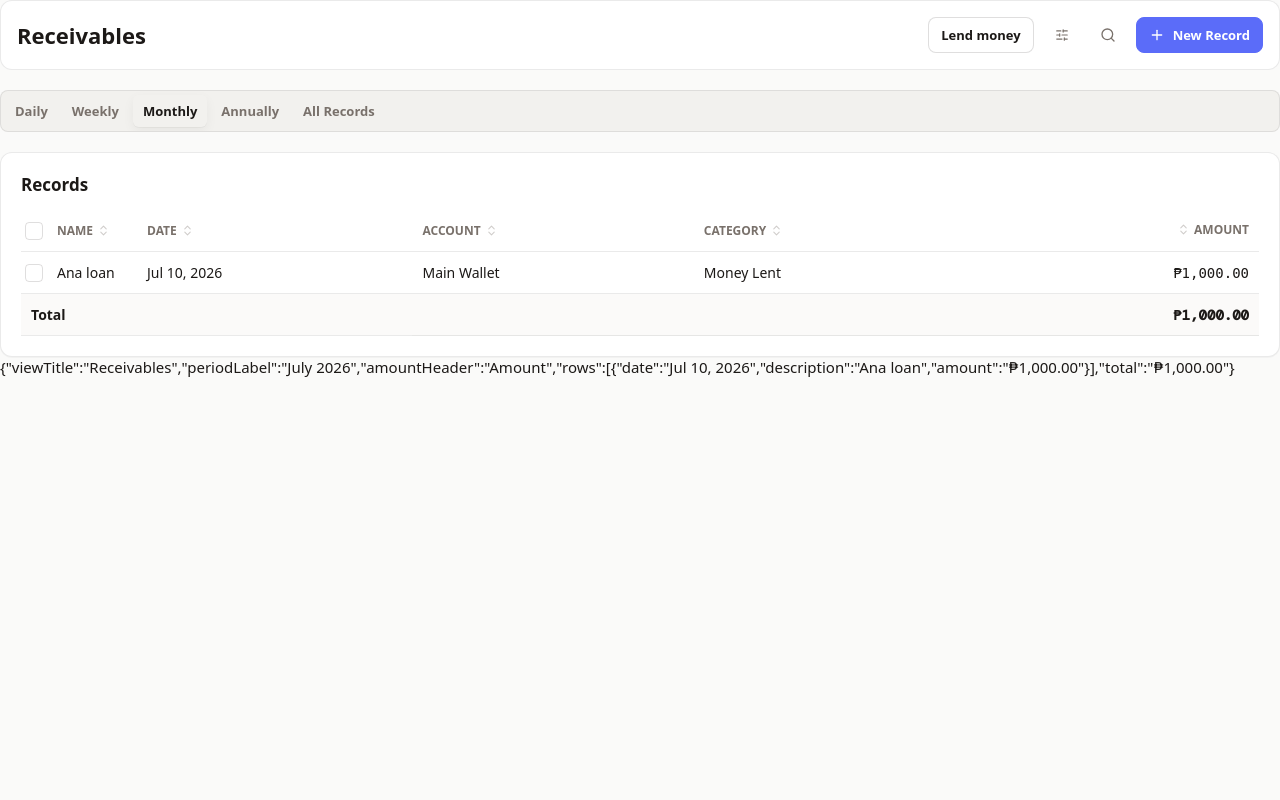
Test: Money Lent › previews full repayment into acc1 and uses the settlement endpoint
The image size is (1280, 800).
Click the text "Ana loan": [79, 272] box [21,252,137,294]
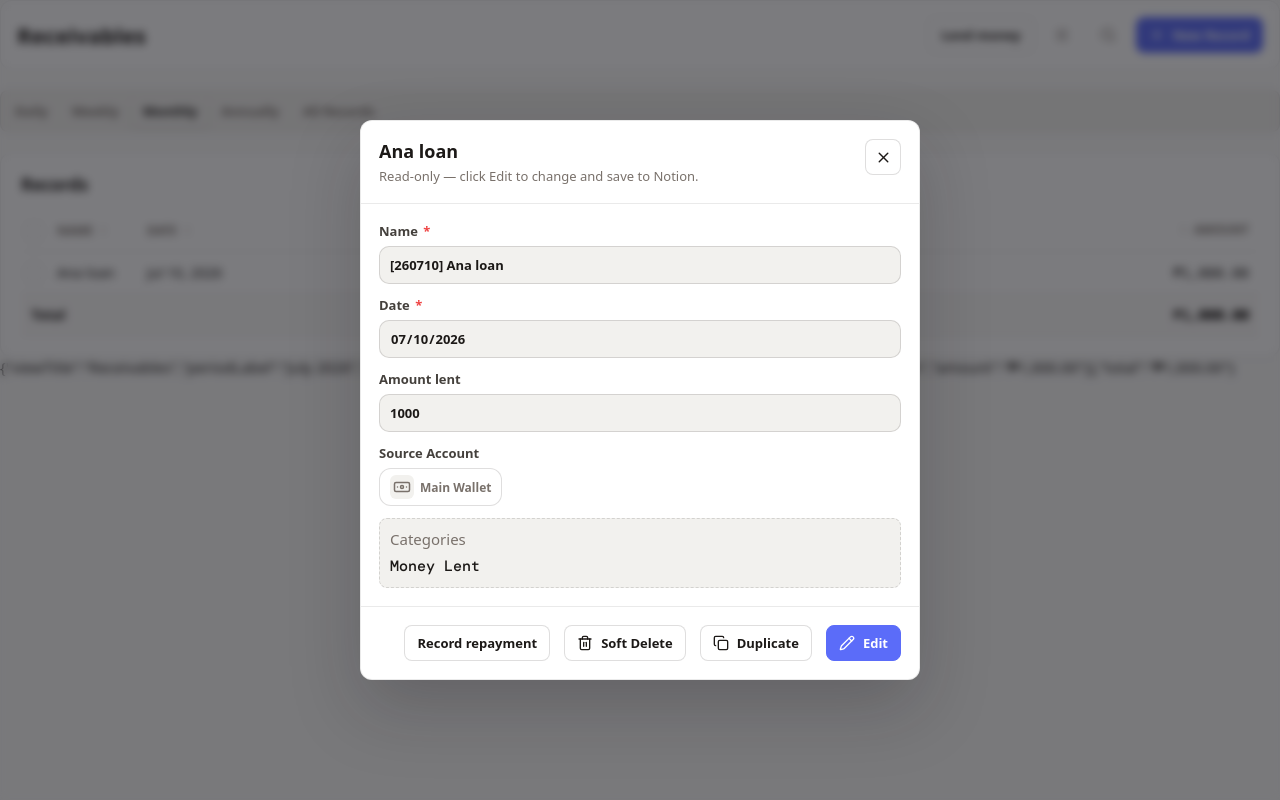
Click the button "Record repayment": [477, 643] box [404,625,550,661]
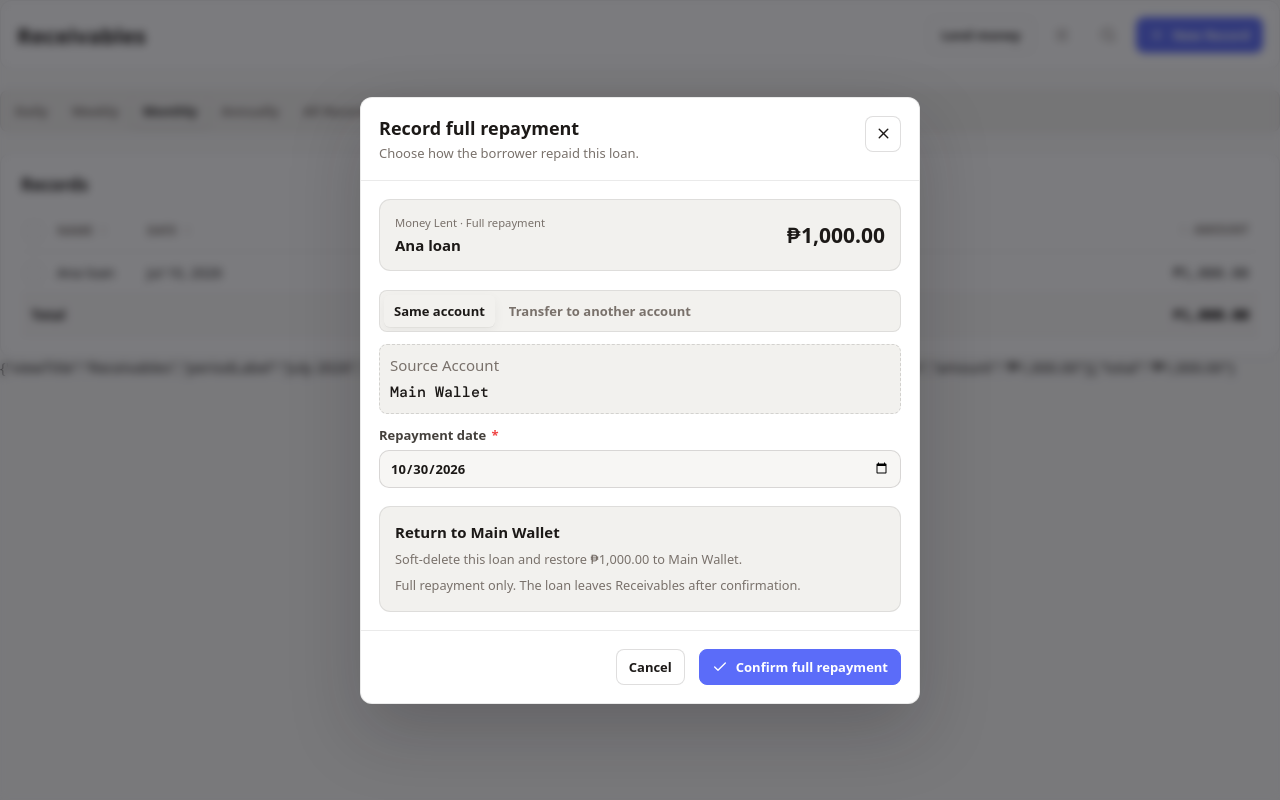
Now the text "Soft-delete this loan and restore ₱1,000.00 to Main Wallet." is shown, box [395,550,742,568]
Click the button "Confirm full repayment": [800, 666] box [699,648,901,684]
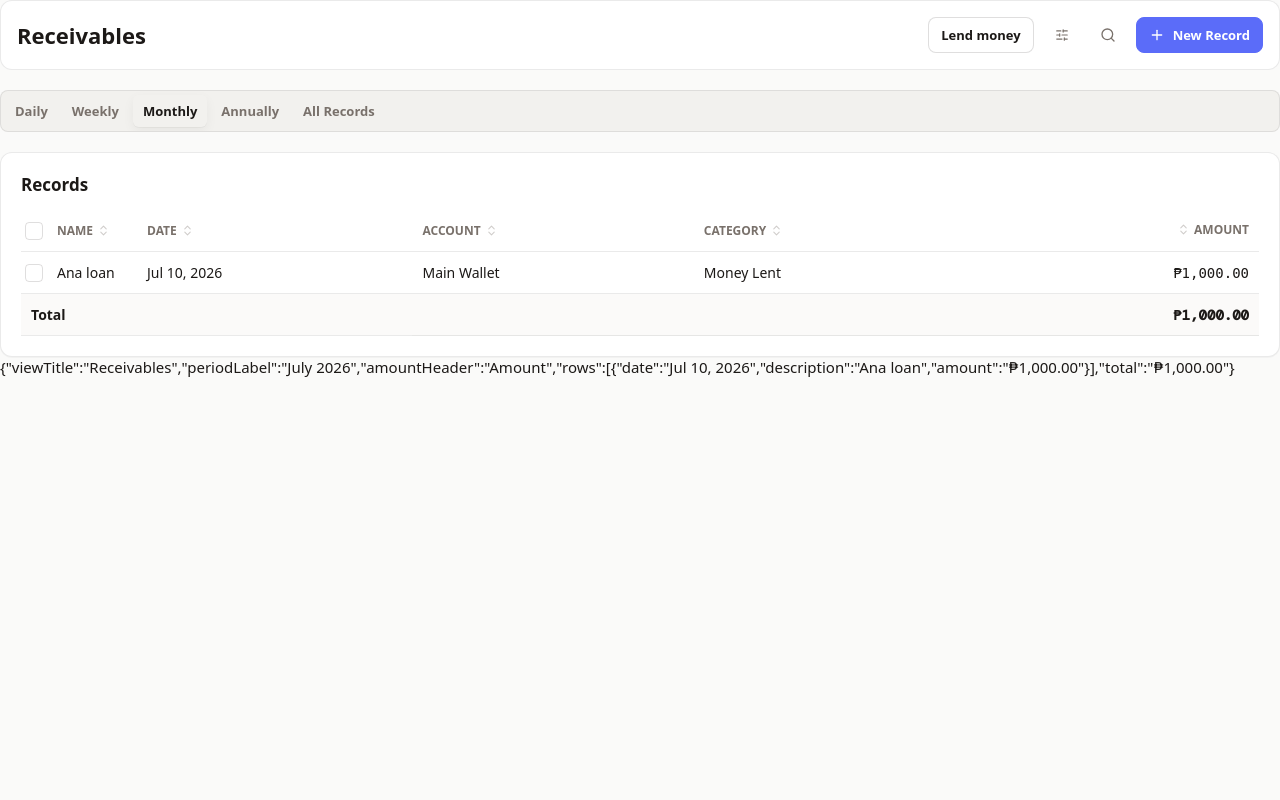
Now the dialog is gone
